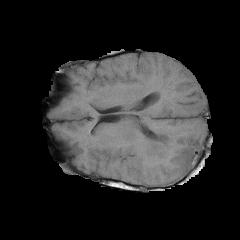glioma: (139, 124, 205, 177)
